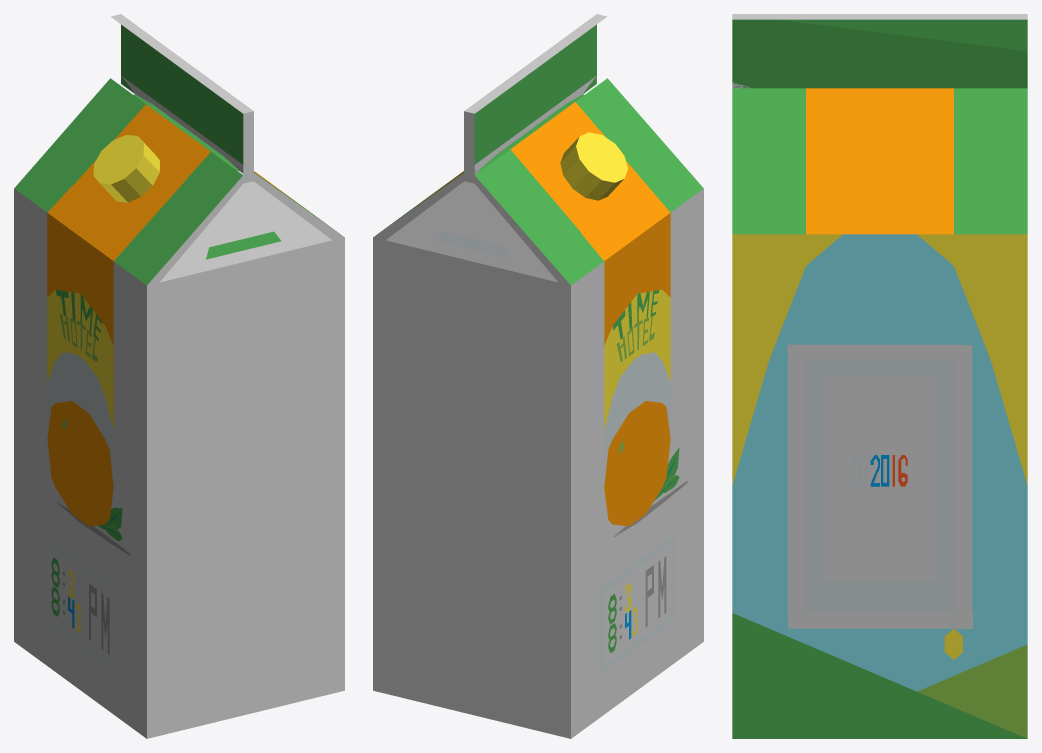
Rendered from hotel.glb.
3 renders of one model, left to right at view 1: azimuth 30°, elevation 25°; view 2: azimuth 150°, elevation 25°; view 3: azimuth 270°, elevation 25°, orthographic. The views are drawn at different scales.
Visible parts, largest first — view 1: group1878001378, group1150525488, group941981295; view 2: group1878001378, group1150525488, group941981295; view 3: group1878001378, group1150525488.
Boxes of the visible parts, <box> form: group1878001378: <box>14,76,344,738</box>; group1150525488: <box>111,14,253,183</box>; group941981295: <box>93,135,159,202</box>; group1878001378: <box>373,76,703,738</box>; group1150525488: <box>464,14,606,183</box>; group941981295: <box>560,132,627,200</box>; group1878001378: <box>732,82,1027,738</box>; group1150525488: <box>732,14,1027,88</box>.
Size of the model in its own units: 0.37 by 1.08 by 0.43.
